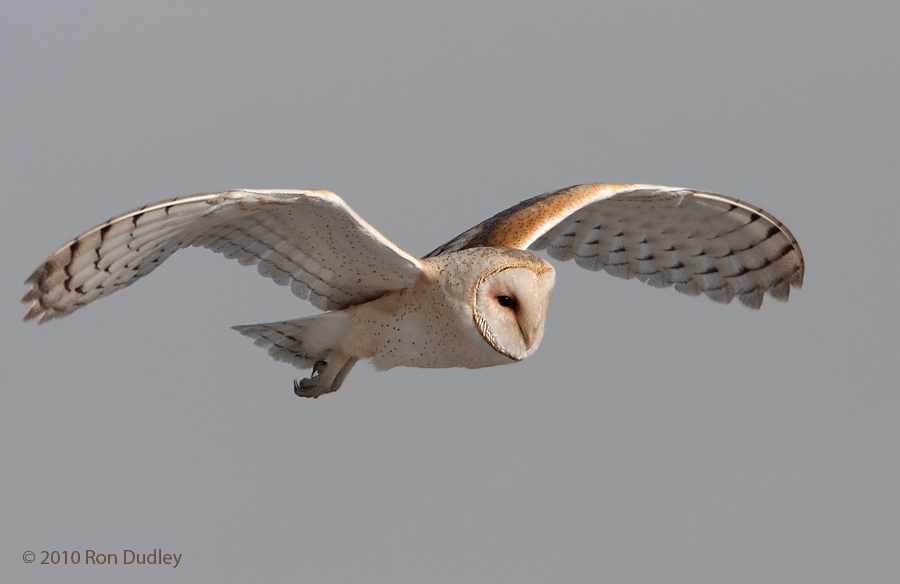owl: (19, 178, 818, 396)
